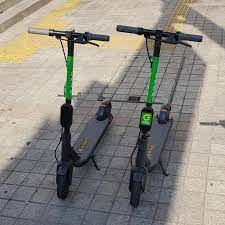guide_blocks: (12, 29, 174, 49), (1, 46, 28, 63), (175, 1, 192, 23)
kick_board: (118, 25, 204, 207), (30, 28, 111, 199)
kick_handler: (117, 25, 203, 47), (29, 27, 110, 47)
kick_neck: (135, 58, 158, 164), (61, 56, 75, 153)
kick_wheel: (55, 163, 73, 201), (127, 171, 146, 203), (99, 101, 114, 118), (160, 103, 173, 120)
